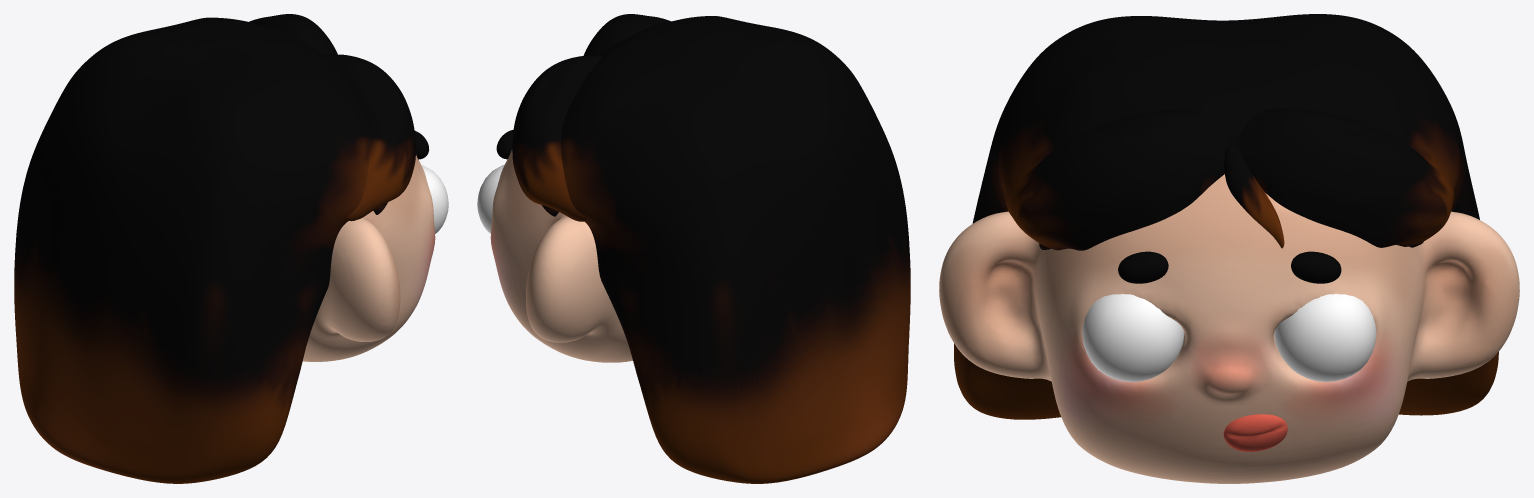
File: miranda-head.glb
3 renders of one model, left to right at view 1: azimuth 30°, elevation 25°; view 2: azimuth 150°, elevation 25°; view 3: azimuth 270°, elevation 25°, orthographic. The views are drawn at different scales.
Visible parts, largest first — view 1: Cube.007, Cube.008, Cube.011; view 2: Cube.007, Cube.008, Cube.011; view 3: Cube.007, Cube.008, Cube.011, Cube.010, Cube.009.
Boxes of the visible parts, x1,y1,x2,y2 form: Cube.007: (14, 14, 415, 483); Cube.008: (302, 155, 435, 361); Cube.011: (421, 165, 448, 233); Cube.007: (512, 14, 910, 483); Cube.008: (490, 149, 632, 362); Cube.011: (477, 165, 504, 233); Cube.007: (954, 14, 1498, 419); Cube.008: (939, 174, 1519, 483); Cube.011: (1082, 293, 1376, 381); Cube.010: (1118, 251, 1341, 283); Cube.009: (1223, 414, 1287, 451).
Bounding box in the file's own units: 1.1 × 1.04 × 1.2.
